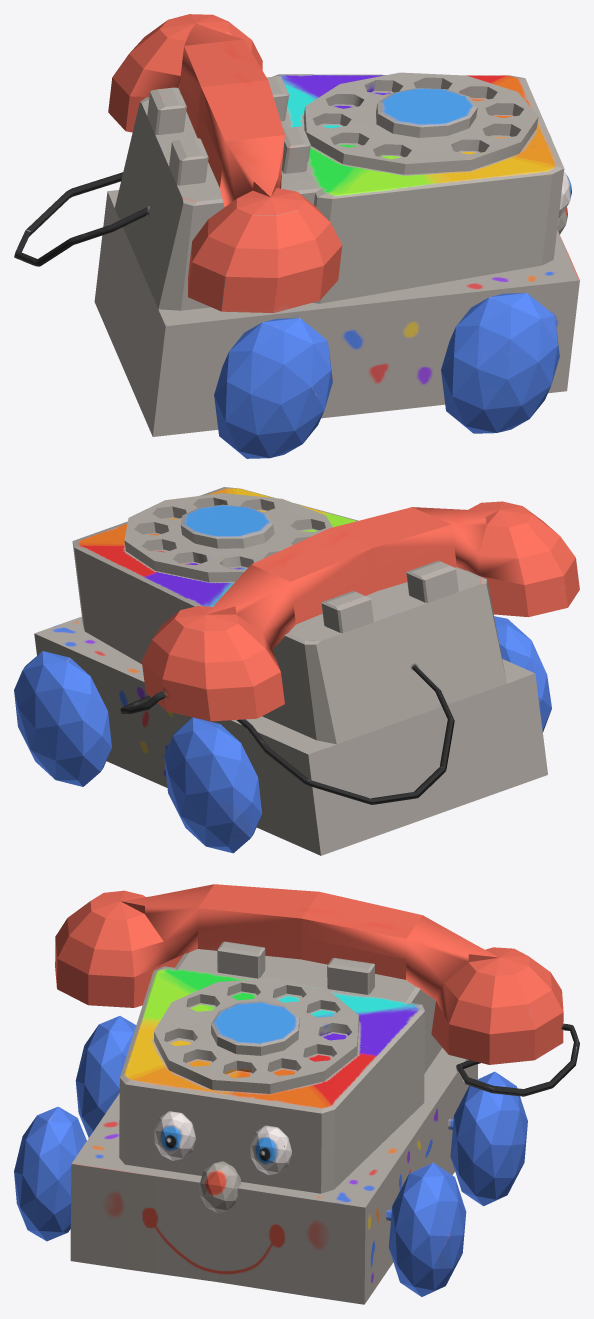
Rendered from chatter_telephone.glb.
3 renders of one model, top to bottom at view 1: azimuth 30°, elevation 25°; view 2: azimuth 150°, elevation 25°; view 3: azimuth 270°, elevation 25°, orthographic. The views are drawn at different scales.
Parts seen in each view (by area): view 1: chatter_telephone; view 2: chatter_telephone; view 3: chatter_telephone.
Part boxes in pixels (bbox=[...]): chatter_telephone: bbox=[14, 14, 579, 458]; chatter_telephone: bbox=[14, 487, 579, 855]; chatter_telephone: bbox=[14, 884, 579, 1304].
Bounding box in the file's own units: 1.57 × 0.9044 × 1.71.
1 material, 1 textured.
